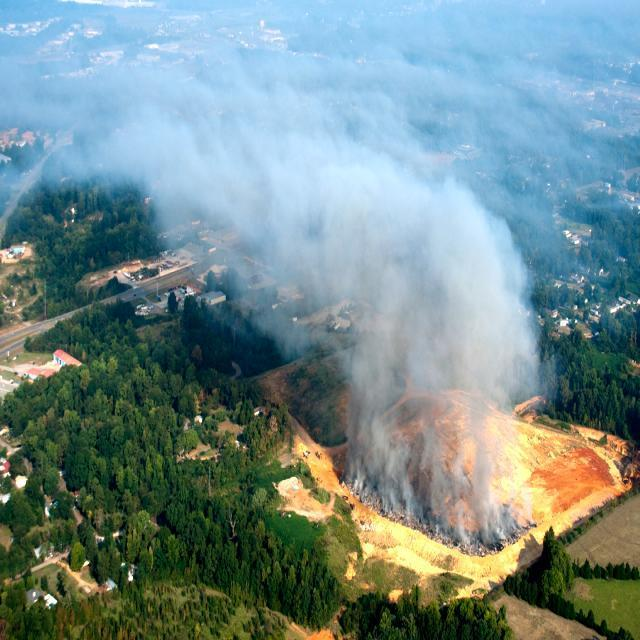Smoke: (298, 96, 546, 544), (100, 33, 306, 306)
